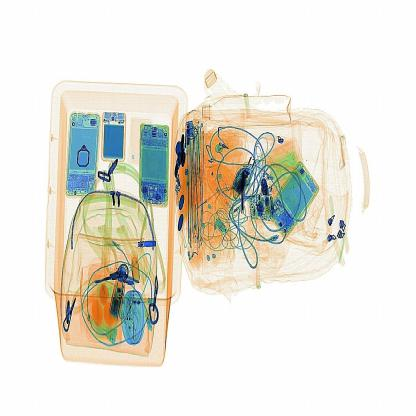knife: (234, 161, 257, 225)
